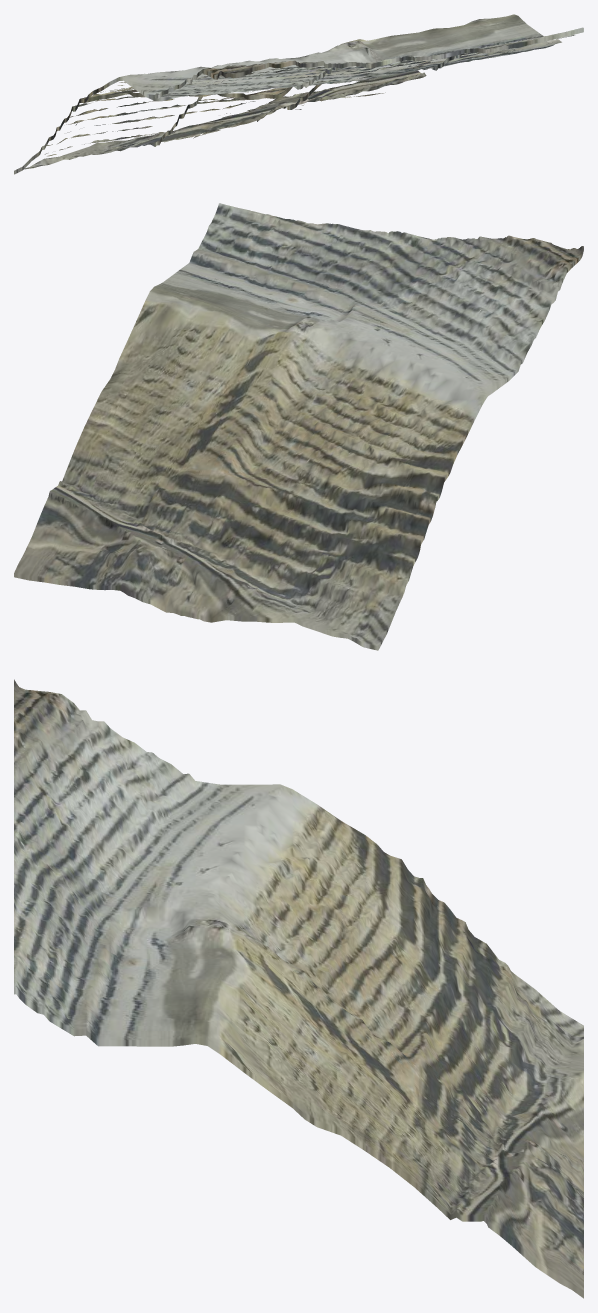
The picture shows the model from 3 angles, top to bottom: view 1: azimuth 30°, elevation 25°; view 2: azimuth 150°, elevation 25°; view 3: azimuth 270°, elevation 25°; orthographic projection. The views are drawn at different scales.
Parts seen in each view (by area): view 1: l1-1-0; view 2: l1-1-0; view 3: l1-1-0.
Part boxes in pixels (x1,y1,x2,y2): l1-1-0: [14, 14, 583, 174]; l1-1-0: [14, 203, 583, 650]; l1-1-0: [14, 679, 583, 1298].
Size of the model in its own units: 768 by 543 by 751.
1 material, 1 textured.
